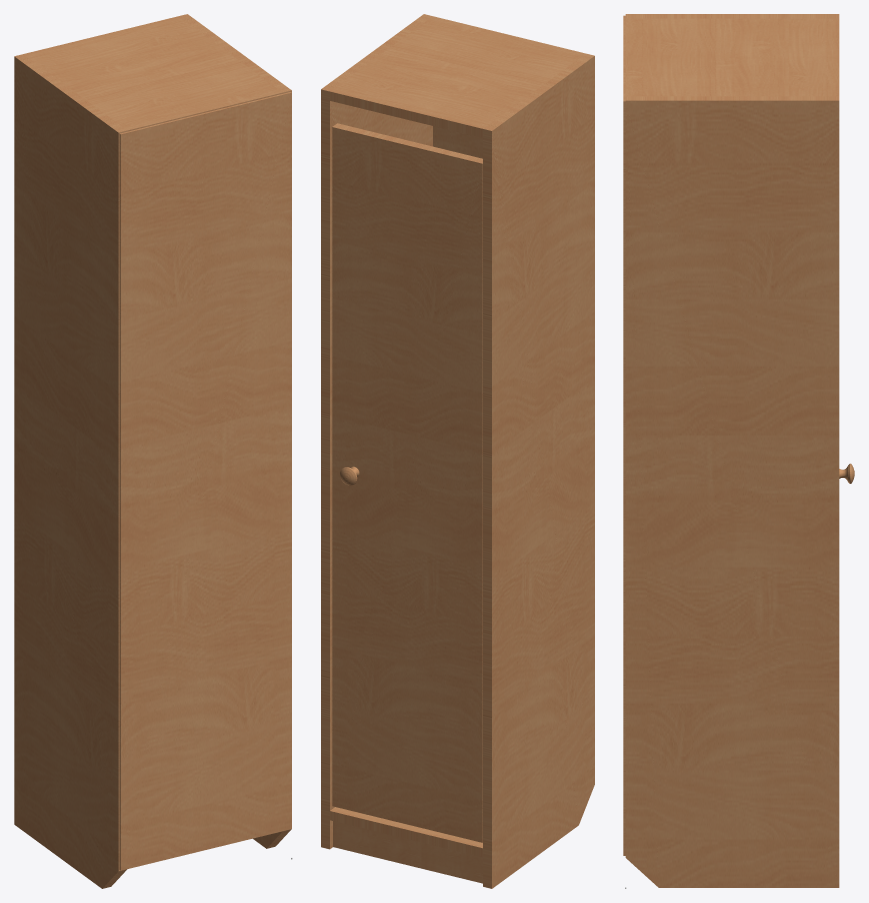
Rendered from shkaf_raz_1.glb.
3 views of the same model, side by side, from view 1: azimuth 30°, elevation 25°; view 2: azimuth 150°, elevation 25°; view 3: azimuth 270°, elevation 25° (orthographic). The views are drawn at different scales.
Visible parts, largest first — view 1: Shape_IndexedFaceSet.008_NON, Shape_IndexedFaceSet.003, Shape_IndexedFaceSet.004, Shape_IndexedFaceSet.005; view 2: Shape_IndexedFaceSet, Shape_IndexedFaceSet.003, Shape_IndexedFaceSet.004, Shape_IndexedFaceSet.005, Shape_IndexedFaceSet.006, Shape_IndexedFaceSet.007, Shape_IndexedFaceSet.008_NON; view 3: Shape_IndexedFaceSet.005, Shape_IndexedFaceSet.004, Shape_IndexedFaceSet.008_NON, Shape_IndexedFaceSet.003.
Boxes of the visible parts, left/top/right/bottom form: Shape_IndexedFaceSet.008_NON: left=119, top=92, right=291, bottom=870; Shape_IndexedFaceSet.003: left=14, top=54, right=127, bottom=888; Shape_IndexedFaceSet.004: left=23, top=16, right=282, bottom=131; Shape_IndexedFaceSet.005: left=179, top=14, right=291, bottom=848; Shape_IndexedFaceSet: left=332, top=123, right=482, bottom=842; Shape_IndexedFaceSet.003: left=483, top=53, right=594, bottom=888; Shape_IndexedFaceSet.004: left=330, top=16, right=585, bottom=137; Shape_IndexedFaceSet.005: left=321, top=14, right=432, bottom=849; Shape_IndexedFaceSet.006: left=333, top=821, right=482, bottom=883; Shape_IndexedFaceSet.007: left=330, top=807, right=482, bottom=857; Shape_IndexedFaceSet.008_NON: left=433, top=126, right=482, bottom=158; Shape_IndexedFaceSet.005: left=625, top=96, right=839, bottom=887; Shape_IndexedFaceSet.004: left=625, top=18, right=839, bottom=96; Shape_IndexedFaceSet.008_NON: left=623, top=15, right=625, bottom=855; Shape_IndexedFaceSet.003: left=625, top=14, right=839, bottom=18.
Size of the model in its own units: 308 by 1301 by 347.
Materials: 12 (11 with a texture image).
